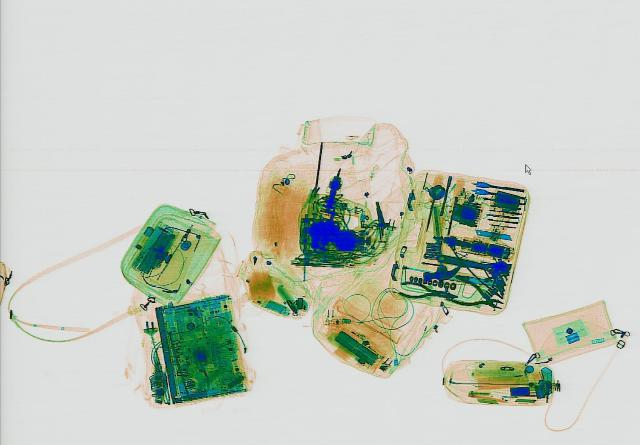Pliers: (437, 275, 513, 316), (397, 281, 461, 302)
